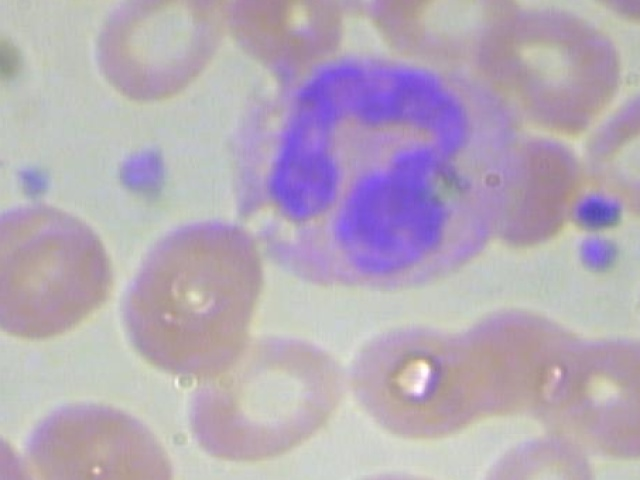Platelets: (104, 141, 184, 210), (569, 227, 629, 286), (7, 150, 56, 210), (571, 185, 626, 232)
RBC: (181, 320, 351, 477), (110, 213, 280, 369), (476, 0, 626, 140), (346, 319, 496, 442), (78, 0, 236, 109), (0, 218, 119, 344), (533, 333, 640, 463), (21, 396, 177, 480), (374, 0, 516, 82), (568, 81, 640, 225), (469, 424, 602, 480), (332, 454, 482, 480), (0, 417, 46, 480)
WBC: (226, 46, 527, 297)
